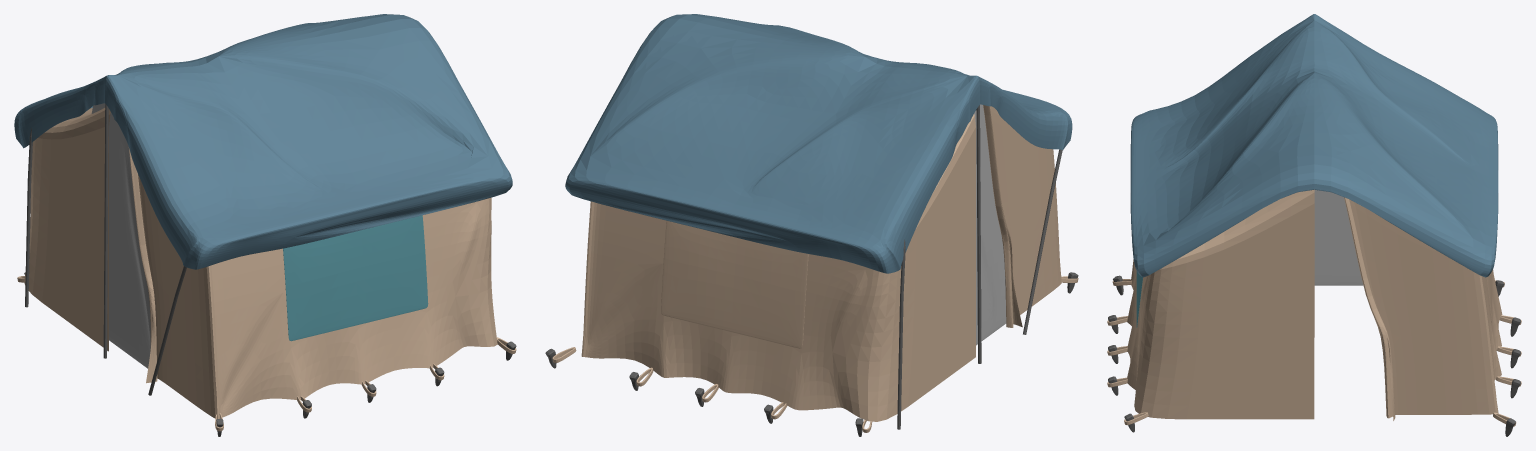
3 views of the same model, side by side, from view 1: azimuth 30°, elevation 25°; view 2: azimuth 150°, elevation 25°; view 3: azimuth 270°, elevation 25° (orthographic). The views are drawn at different scales.
Visible parts, largest first — view 1: Object01, Box01, Box02, gvfdv, Plane01, Line02, Line03, Line01, Box06, rgrg; view 2: Object01, Box02, Box01, Plane01, Line02, Line01, Box07, Line03, rgrg01; view 3: Object01, Box01, Box02, Plane01, rgrg01, Box06, rgrg, Box07.
Boxes of the visible parts, x1,y1,x2,y2 form: Object01: (14,14,512,269); Box01: (128,147,497,418); Box02: (24,108,110,351); gvfdv: (283,215,428,341); Plane01: (91,103,150,368); Line02: (103,104,108,358); Line03: (25,128,32,307); Line01: (148,266,186,395); Box06: (215,337,516,431); rgrg: (216,341,516,436); Object01: (565,14,1072,273); Box02: (581,114,975,421); Box01: (983,105,1061,327); Plane01: (974,104,1006,345); Line02: (976,105,981,363); Line01: (1023,149,1062,334); Box07: (552,347,872,432); Line03: (897,239,905,429); rgrg01: (545,348,863,436); Object01: (1130,14,1498,277); Box01: (1127,189,1314,419); Box02: (1344,197,1502,420); Plane01: (1314,190,1363,285); rgrg01: (1495,280,1520,436); Box06: (1107,279,1148,425); rgrg: (1108,275,1134,432); Box07: (1493,280,1521,426).
Bounding box in the file's own units: 68.29 × 58.27 × 79.21.
